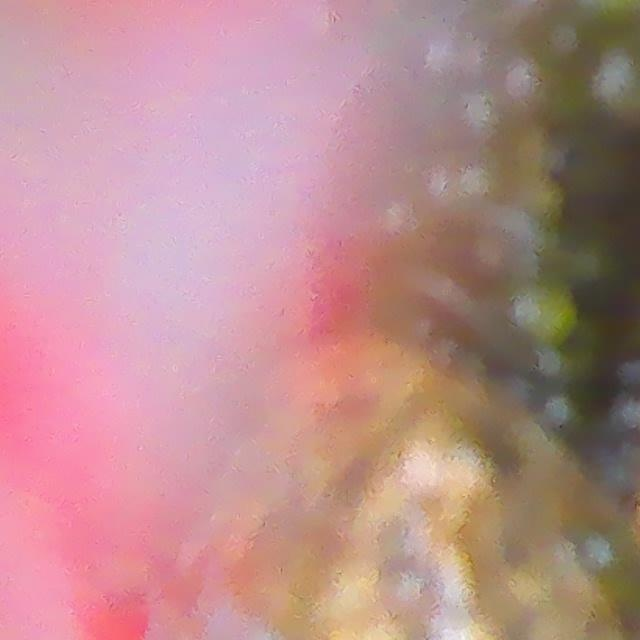SeaGrape: (505, 285, 577, 343), (594, 55, 640, 111)
